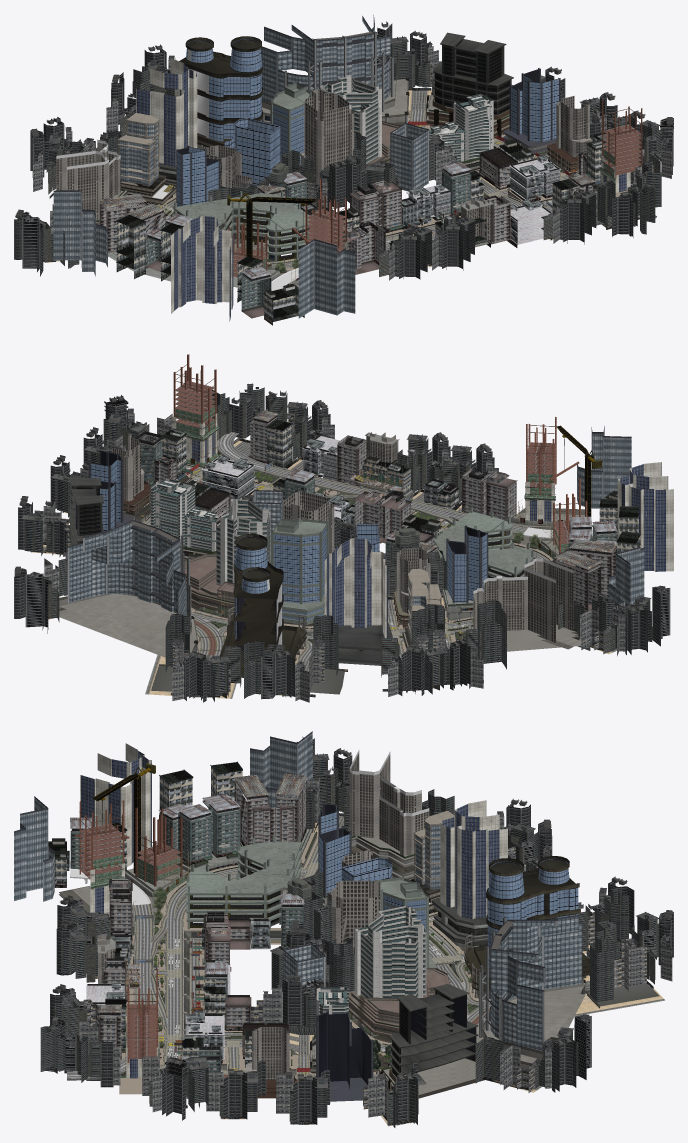
File: SUP_city.glb
The picture shows the model from 3 angles, top to bottom: view 1: azimuth 30°, elevation 25°; view 2: azimuth 150°, elevation 25°; view 3: azimuth 270°, elevation 25°; orthographic projection. The views are drawn at different scales.
Parts seen in each view (by area): view 1: SUP_city; view 2: SUP_city; view 3: SUP_city.
Boxes of the visible parts, left/top/right/bottom form: SUP_city: left=14, top=15, right=673, bottom=325; SUP_city: left=14, top=354, right=673, bottom=702; SUP_city: left=14, top=731, right=673, bottom=1127.
Size of the model in its own units: 14.22 by 2.76 by 12.12.
100 materials, 99 textured.
